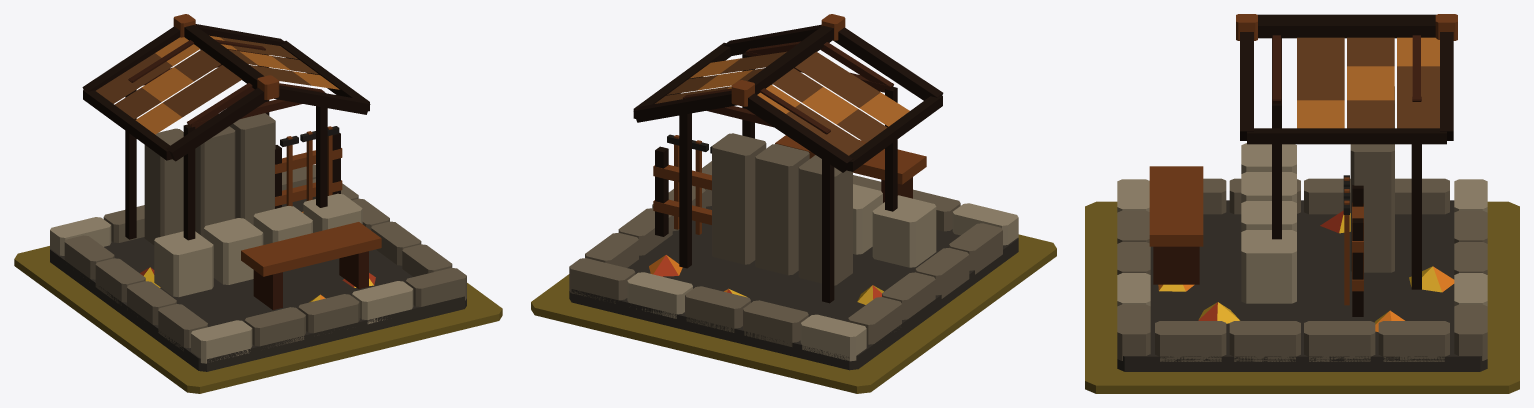
File: mason_yard_t1.glb
3 renders of one model, left to right at view 1: azimuth 30°, elevation 25°; view 2: azimuth 150°, elevation 25°; view 3: azimuth 270°, elevation 25°, orthographic. The views are drawn at different scales.
Parts seen in each view (by area): view 1: MMR | mason_yard | T01 Architecture.001, MMR | mason_yard | Tier 01 Ground.001; view 2: MMR | mason_yard | T01 Architecture.001, MMR | mason_yard | Tier 01 Ground.001, MMR | mason_yard | T01 Autumn Dressing.001; view 3: MMR | mason_yard | T01 Architecture.001, MMR | mason_yard | Tier 01 Ground.001, MMR | mason_yard | T01 Autumn Dressing.001.
Boxes of the visible parts, box(x1,y1,x2,y2) form: MMR | mason_yard | T01 Architecture.001: box(50, 14, 466, 371); MMR | mason_yard | Tier 01 Ground.001: box(14, 246, 502, 393); MMR | mason_yard | T01 Architecture.001: box(569, 14, 1018, 370); MMR | mason_yard | Tier 01 Ground.001: box(531, 234, 1056, 393); MMR | mason_yard | T01 Autumn Dressing.001: box(649, 255, 883, 304); MMR | mason_yard | T01 Architecture.001: box(1117, 14, 1487, 371); MMR | mason_yard | Tier 01 Ground.001: box(1085, 201, 1519, 393); MMR | mason_yard | T01 Autumn Dressing.001: box(1158, 210, 1454, 331).
Bounding box in the file's own units: 2.35 × 1.65 × 2.35.
1 material, 1 textured.
